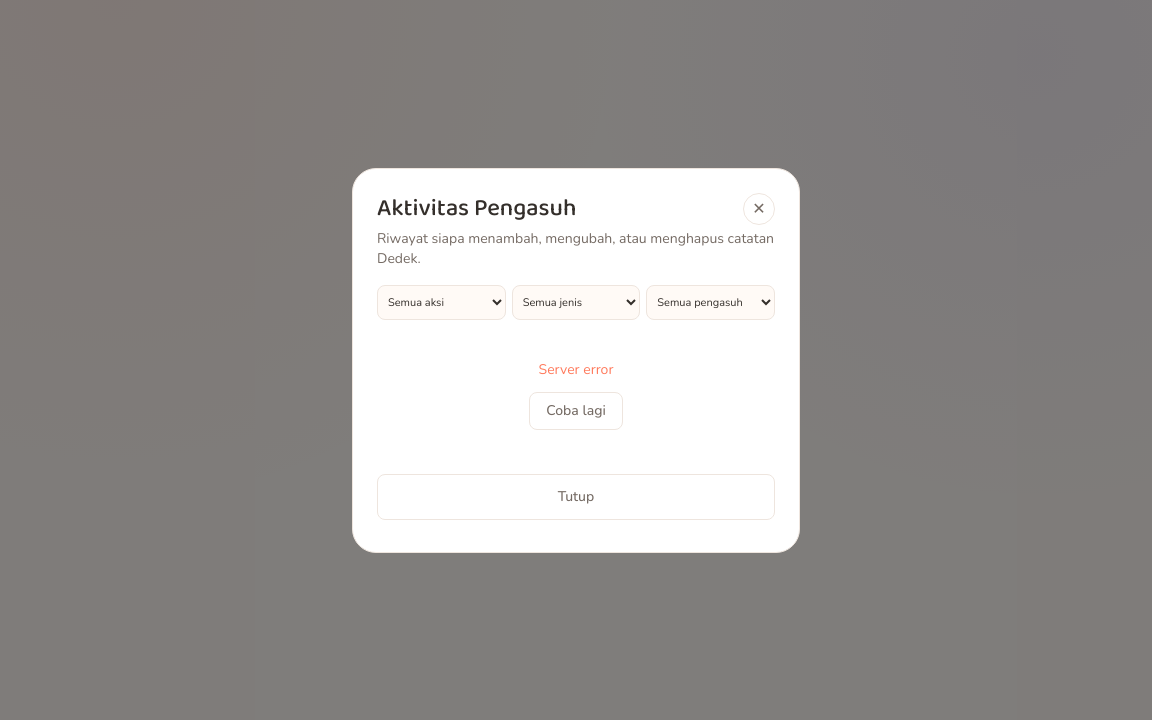
Test: AuditTrailScreen — loading/ready/empty/error states › shows a retry-able error state on failure, without treating it as an auth failure
This screenshot has width=1152, height=720.
Expected: the text "Server error" is shown, top-left (539, 360), bottom-right (614, 378)
Click the button "Coba lagi" at (576, 410), box top-left (529, 392), bottom-right (623, 430)
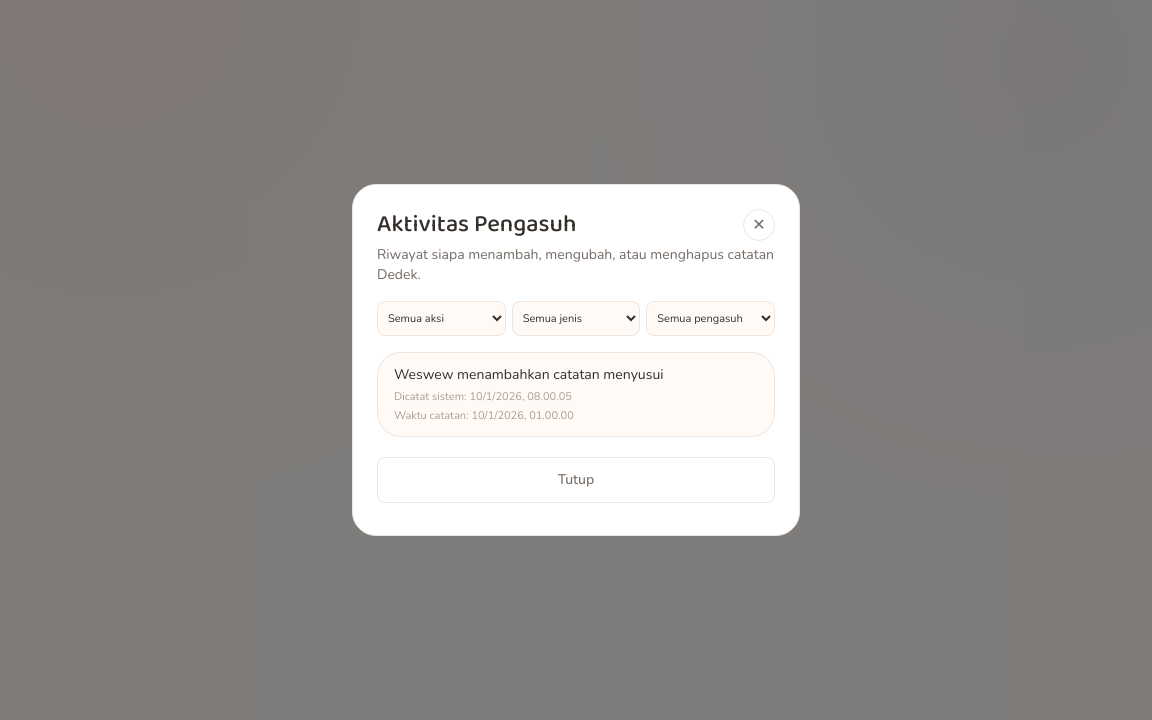
Expected: the text "Weswew menambahkan catatan menyusui" is shown, top-left (394, 365), bottom-right (664, 384)
